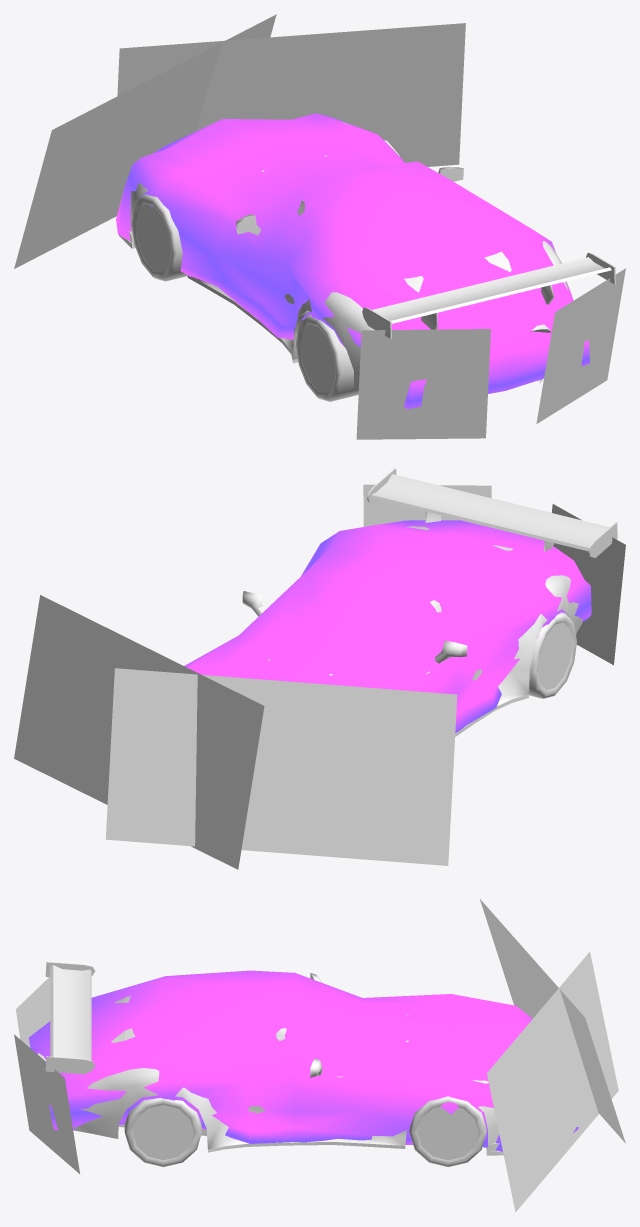
The model's file is Marcos.fbx.
The picture shows the model from 3 angles, top to bottom: view 1: azimuth 30°, elevation 25°; view 2: azimuth 150°, elevation 25°; view 3: azimuth 270°, elevation 25°; orthographic projection. The views are drawn at different scales.
Visible parts, largest first — view 1: MarcosProxy, MarcosFrontLights, MarcosRearLights, Marcos, MarcosWheel_LB, MarcosWheel_LF; view 2: MarcosFrontLights, MarcosProxy, Marcos, MarcosRearLights, MarcosWheel_LB; view 3: MarcosProxy, MarcosFrontLights, Marcos, MarcosRearLights, MarcosWheel_RB, MarcosWheel_RF.
Part boxes in pixels (bbox=[...]): MarcosProxy: bbox=[116, 113, 589, 409]; MarcosFrontLights: bbox=[14, 14, 465, 268]; MarcosRearLights: bbox=[356, 268, 625, 439]; Marcos: bbox=[118, 122, 615, 389]; MarcosWheel_LB: bbox=[296, 314, 358, 401]; MarcosWheel_LF: bbox=[131, 194, 187, 281]; MarcosFrontLights: bbox=[14, 595, 457, 869]; MarcosProxy: bbox=[184, 520, 591, 732]; Marcos: bbox=[242, 468, 617, 736]; MarcosRearLights: bbox=[363, 484, 625, 665]; MarcosWheel_LB: bbox=[529, 612, 576, 698]; MarcosProxy: bbox=[28, 970, 578, 1151]; MarcosFrontLights: bbox=[480, 899, 625, 1212]; Marcos: bbox=[38, 962, 503, 1155]; MarcosRearLights: bbox=[14, 976, 80, 1174]; MarcosWheel_RB: bbox=[124, 1098, 201, 1167]; MarcosWheel_RF: bbox=[409, 1096, 486, 1167].
Size of the model in its own units: 3.93 by 5.44 by 1.39.
